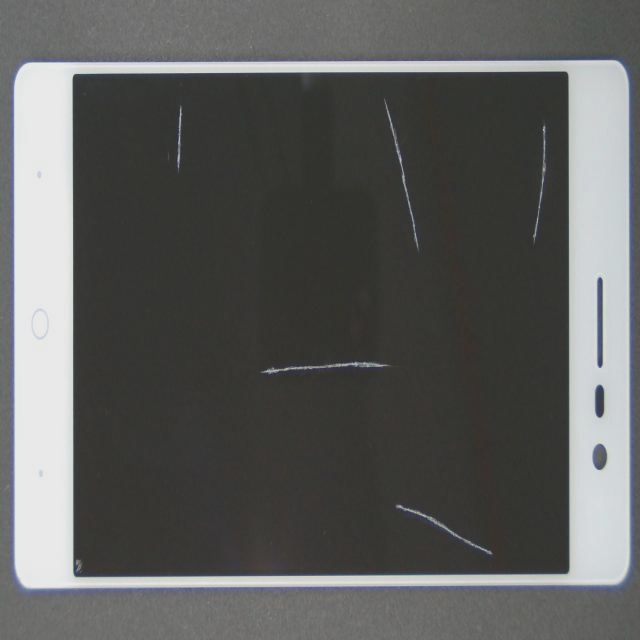scratch: (309, 299, 640, 640), (269, 191, 536, 540), (288, 81, 640, 192), (234, 141, 614, 230), (89, 7, 258, 187)
